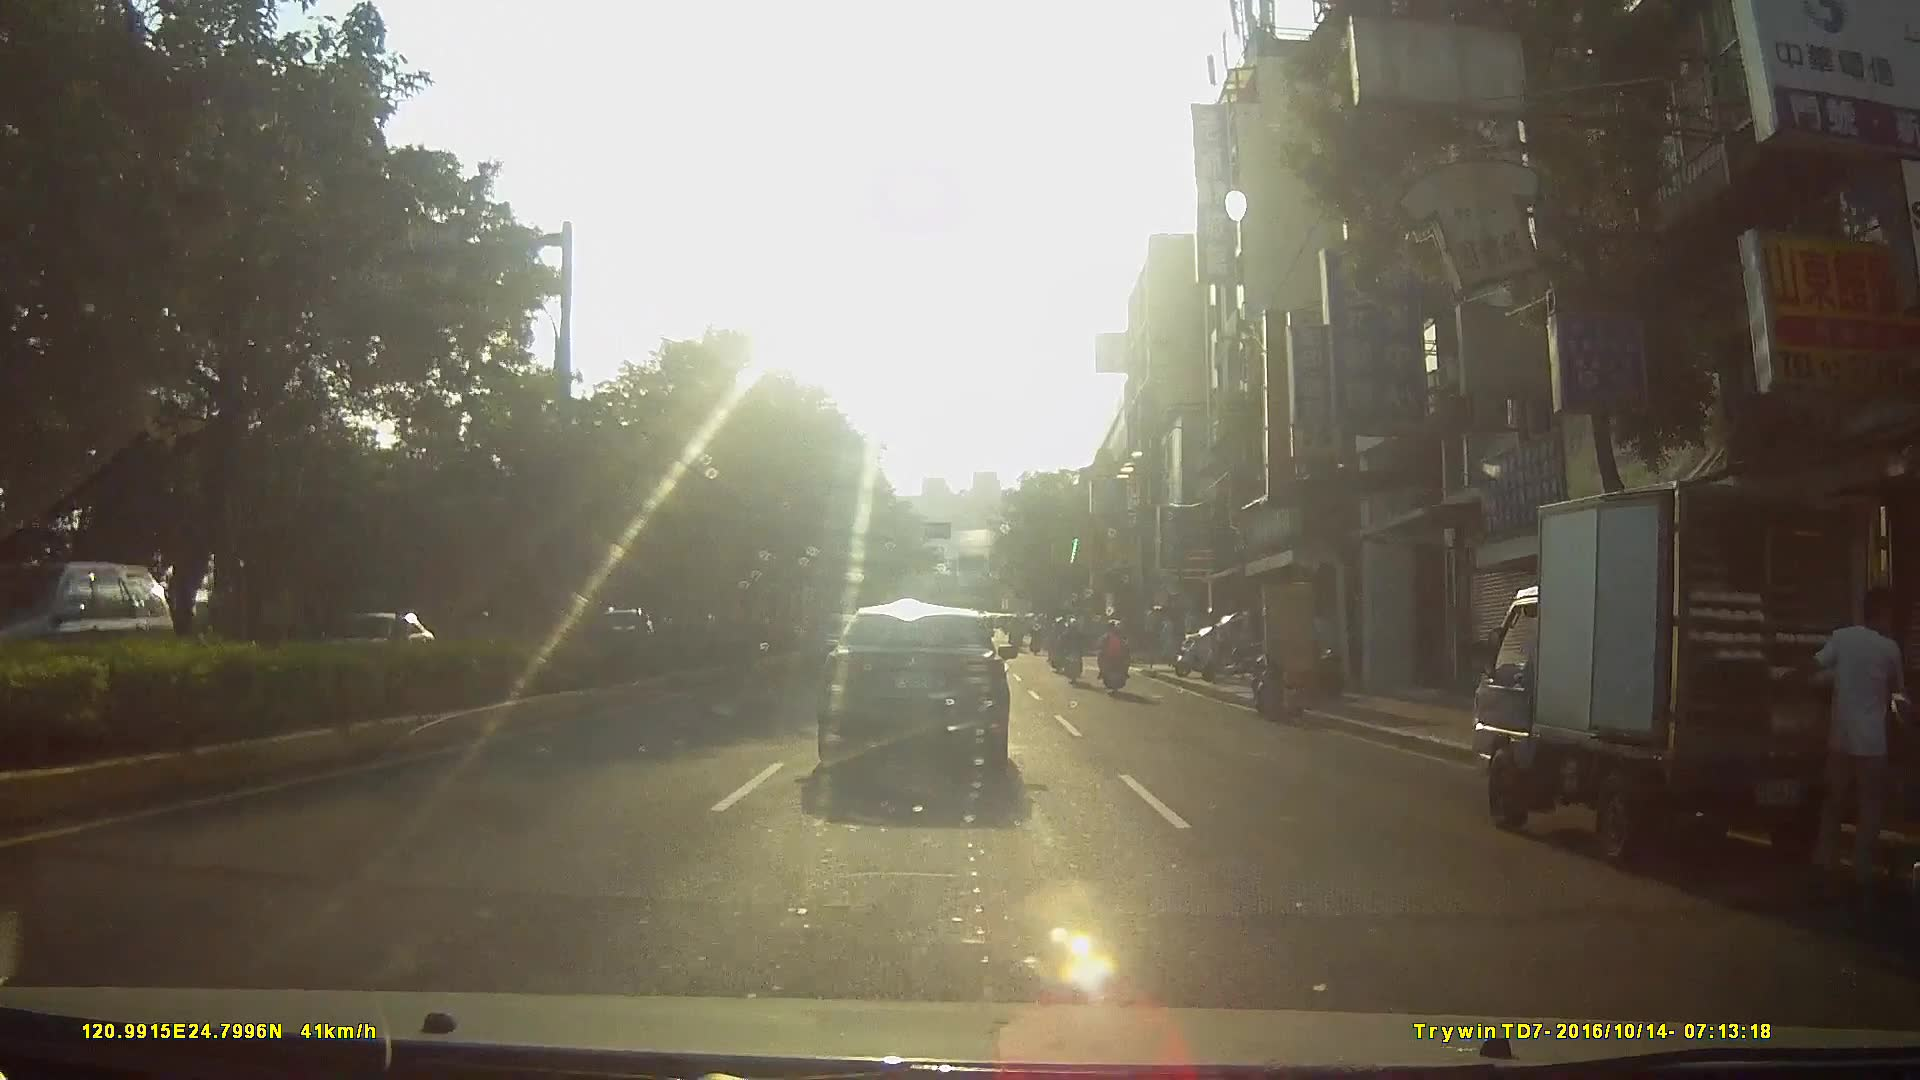pedestrian: (1797, 568, 1898, 895)
rider: (1096, 617, 1132, 697), (1059, 612, 1085, 686), (1049, 608, 1070, 667)
vehicle: (1466, 463, 1890, 860), (810, 594, 1021, 784), (1, 561, 180, 704)
